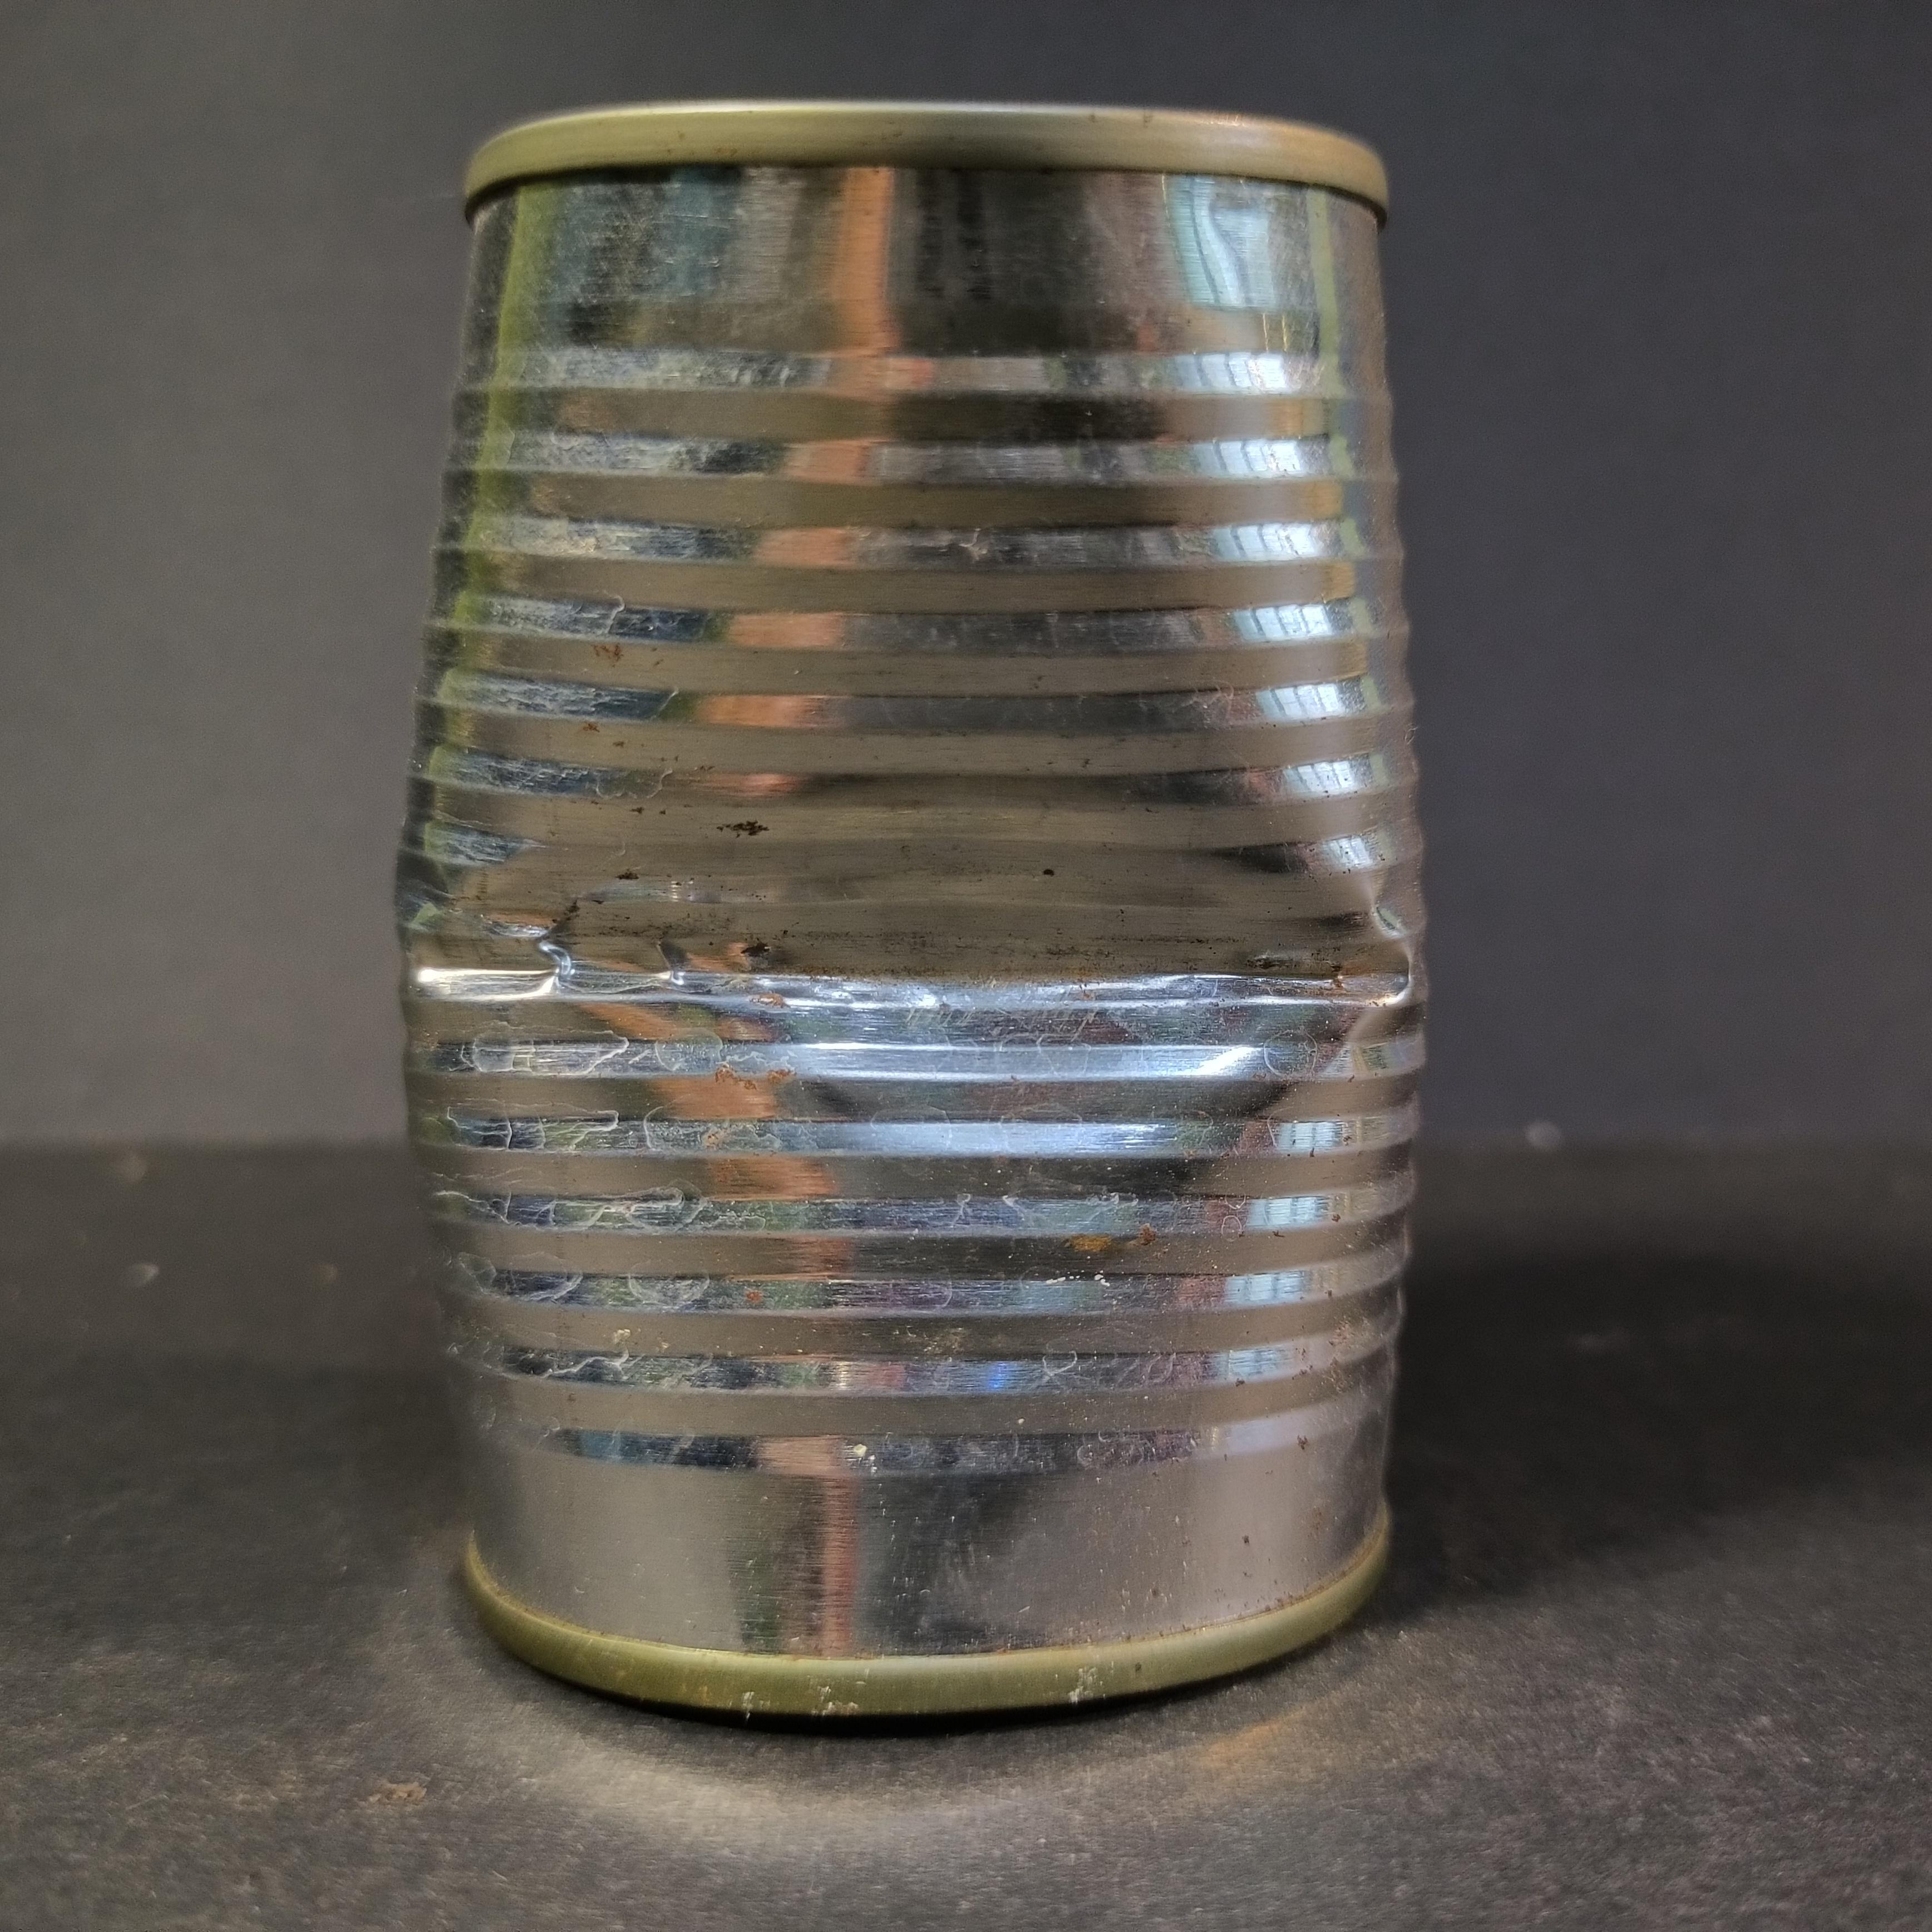Dented: (368, 55, 1453, 1773)
